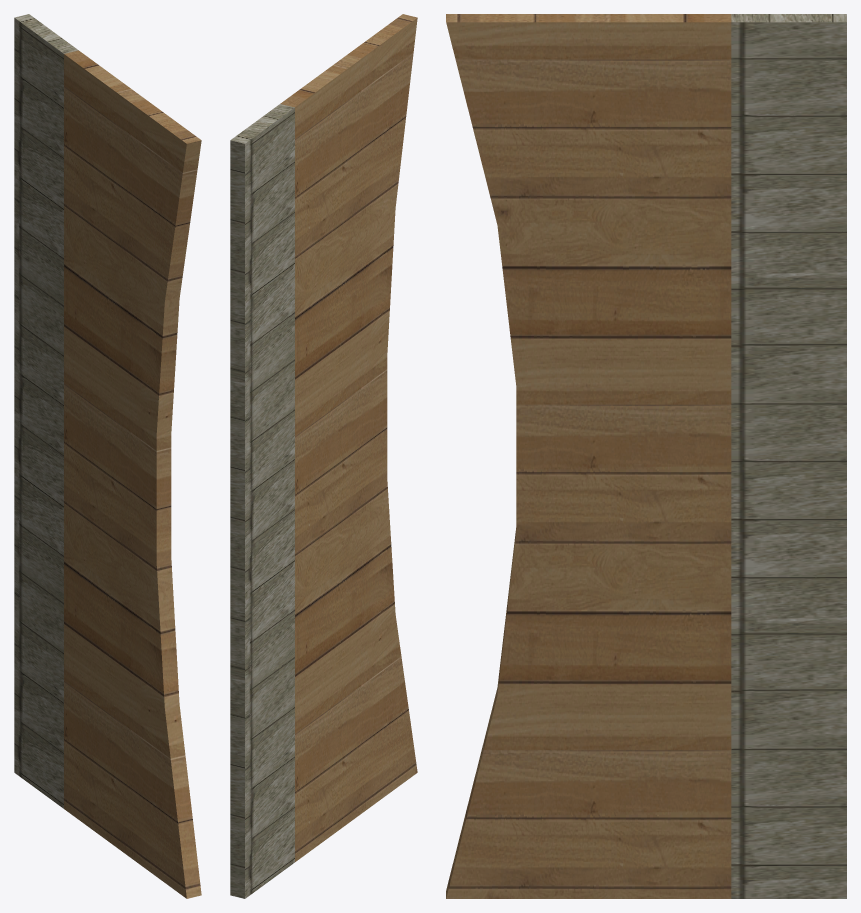
The model's file is nt_concrete_fence_192_tall_LOD1.obj.
The picture shows the model from 3 angles, left to right: view 1: azimuth 30°, elevation 25°; view 2: azimuth 150°, elevation 25°; view 3: azimuth 270°, elevation 25°; orthographic projection. The views are drawn at different scales.
Visible parts, largest first — view 1: nt_wood_fence, nt_2020_concrete_pattern_02; view 2: nt_wood_fence, nt_2020_concrete_pattern_02; view 3: nt_wood_fence, nt_2020_concrete_pattern_02.
Part boxes in pixels (bbox=[...]): nt_wood_fence: bbox=[64, 50, 201, 898]; nt_2020_concrete_pattern_02: bbox=[14, 14, 78, 808]; nt_wood_fence: bbox=[280, 14, 417, 861]; nt_2020_concrete_pattern_02: bbox=[230, 104, 294, 898]; nt_wood_fence: bbox=[446, 14, 731, 898]; nt_2020_concrete_pattern_02: bbox=[731, 14, 846, 898].
Bounding box in the file's own units: 9.98 × 487 × 202.
Materials: 2 (2 with a texture image).
